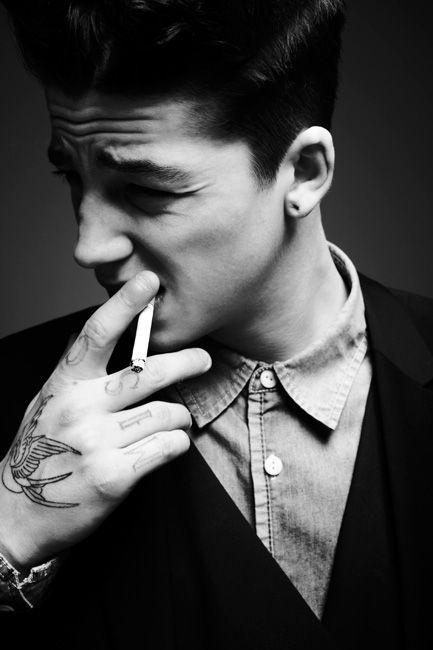cigarette: (130, 297, 155, 374)
